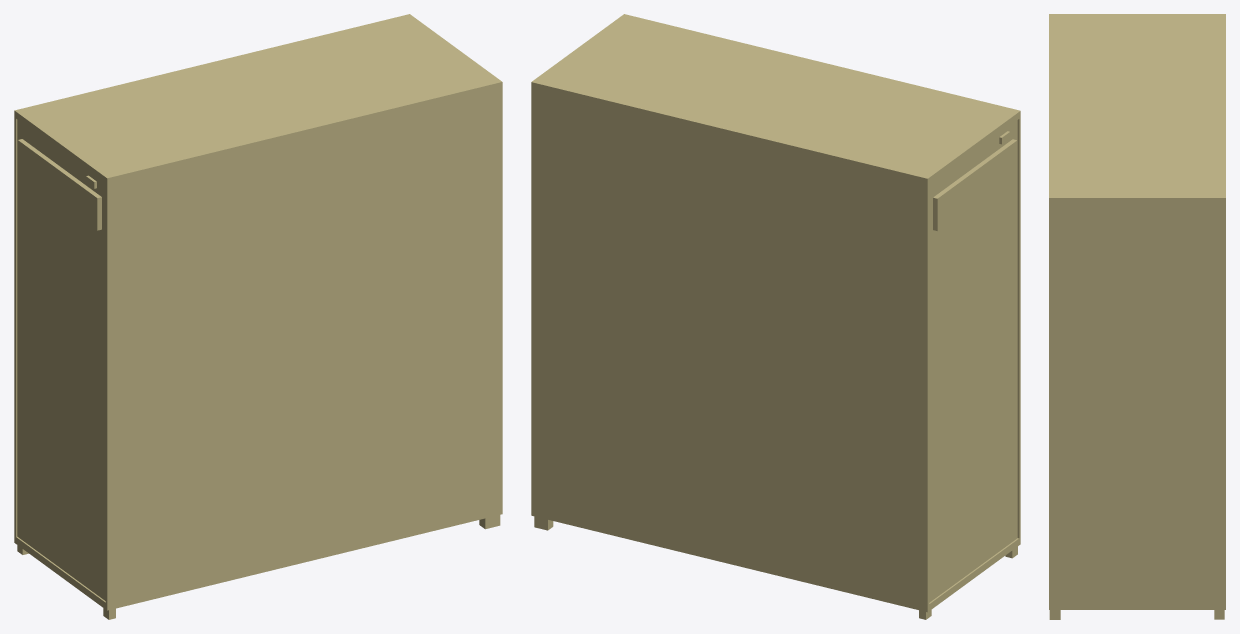
Rendered from ComputerTower.fbx.
3 views of the same model, side by side, from view 1: azimuth 30°, elevation 25°; view 2: azimuth 150°, elevation 25°; view 3: azimuth 270°, elevation 25° (orthographic). The views are drawn at different scales.
Parts seen in each view (by area): view 1: Cube; view 2: Cube; view 3: Cube.
Part boxes in pixels (x1=…): Cube: x1=14, y1=14, x2=502, y2=619; Cube: x1=531, y1=14, x2=1020, y2=619; Cube: x1=1049, y1=14, x2=1225, y2=619.
Bounding box in the file's own units: 12.7 × 13.51 × 5.12.
